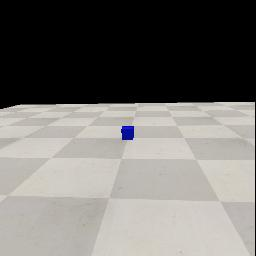box: (121, 126, 134, 140)
